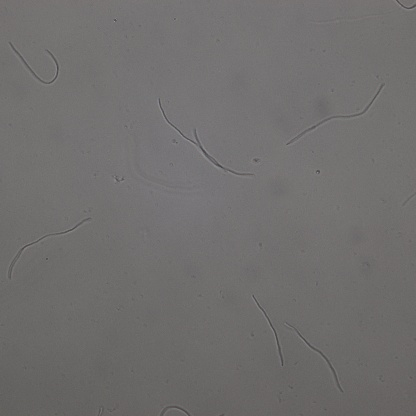Sensitive: (158, 98, 254, 176), (287, 83, 384, 144), (8, 217, 89, 279), (287, 323, 344, 392), (253, 296, 285, 365), (10, 41, 60, 85)
